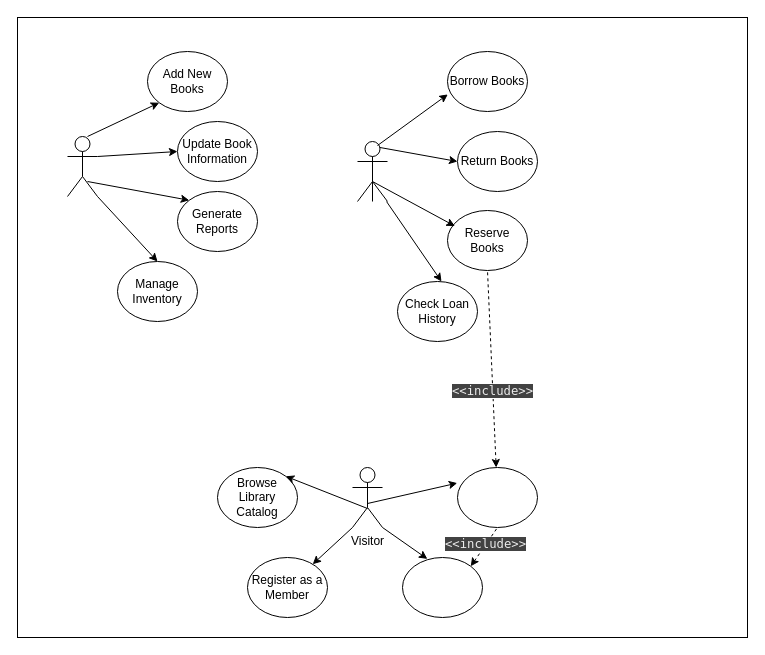
The diagram is 765 pixels wide and 655 high, and some of its shapes have lost their labels. The shapes that lost their labels are listed below. From the top down, each one's centre as x and y in pixels, then its label:
At [82,166]: "Librarian".
At [372,171]: "Member".
At [497,497]: "Search for Books".
At [442,587]: "View Book Details".
